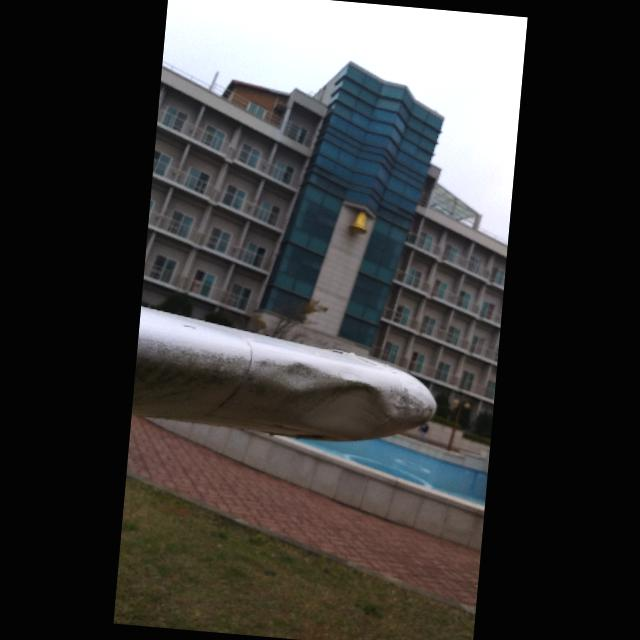dent: (297, 376, 393, 444), (276, 352, 328, 392)
